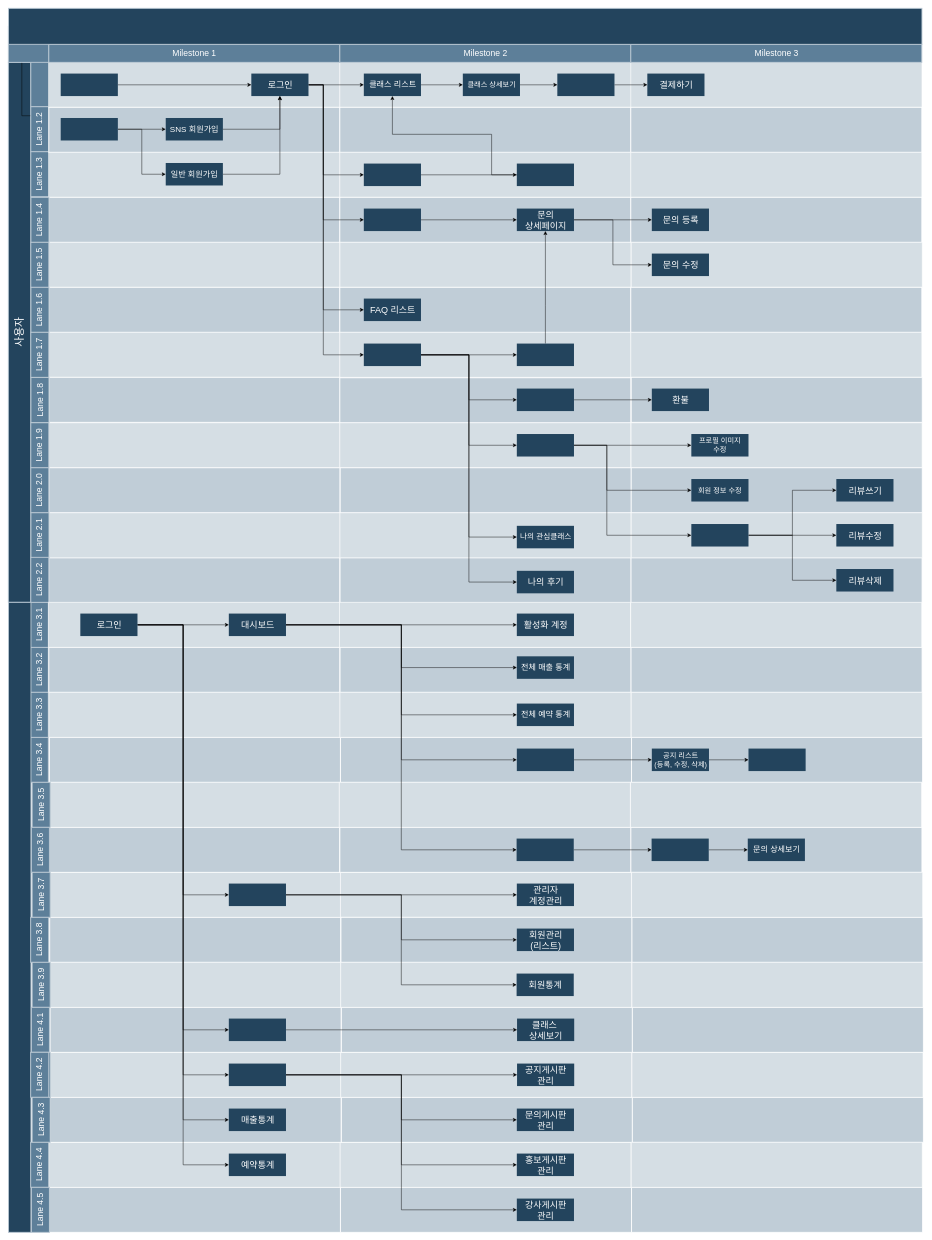
Some shapes in this 932 by 1240 pixel diagram are drawn without their labels. Each missing label, with the box of its shape:
Lane 1.1: (30, 61, 49, 107)
LiClass Project: (8, 8, 922, 45)
Q&A 리스트: (364, 208, 421, 231)
게시판: (229, 1063, 286, 1086)
결제내역: (517, 388, 574, 411)
공지 상세보기: (748, 748, 805, 771)
관리자: (8, 602, 31, 1233)
내 문의내역: (517, 343, 574, 366)
마이 페이지: (364, 343, 421, 366)
문의 리스트 (답변, 답변수정 ,삭제): (651, 838, 709, 861)
비회원: (60, 118, 118, 140)
수강내역: (691, 524, 748, 546)
스튜디오: (364, 163, 421, 186)
스튜디오 상세보기: (517, 163, 574, 186)
예약하기: (557, 73, 614, 96)
최근 공지사항: (517, 748, 574, 771)
최근 문의사항: (516, 838, 574, 861)
클래스 관리 (리스트): (229, 1018, 286, 1041)
프로필: (517, 434, 574, 456)
회원: (60, 73, 118, 96)
회원관리: (229, 883, 286, 906)
